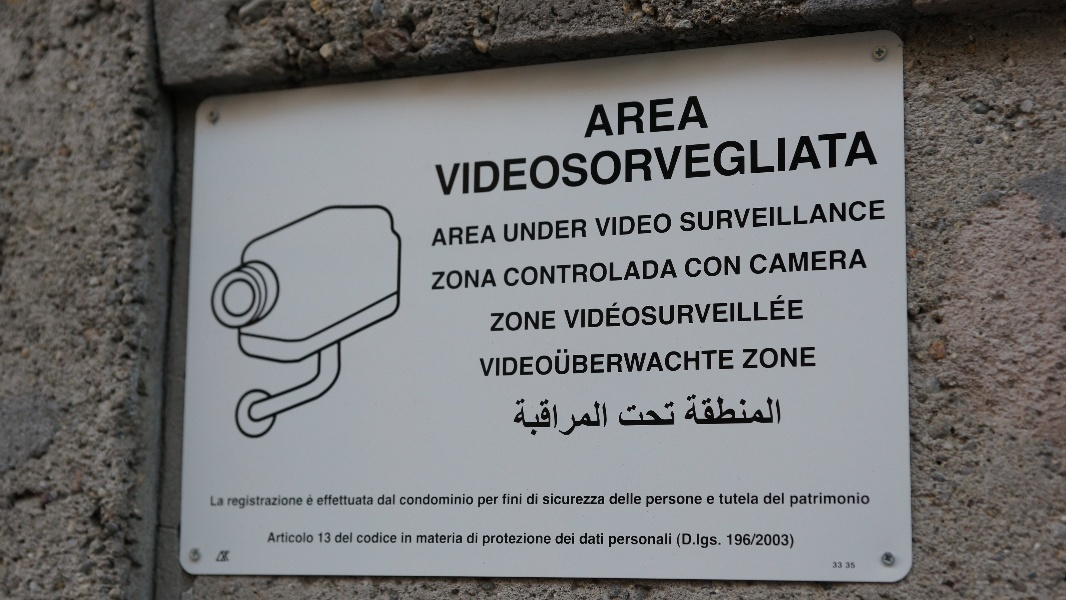text: (433, 125, 448, 198), (449, 125, 464, 198), (465, 125, 480, 198), (481, 125, 496, 198), (497, 125, 512, 198), (513, 125, 528, 198), (529, 125, 544, 198), (545, 125, 560, 198), (561, 125, 576, 198), (577, 125, 592, 198), (593, 125, 608, 198), (609, 125, 624, 198), (625, 125, 640, 198), (641, 125, 656, 198), (657, 125, 672, 198), (673, 125, 688, 198), (689, 125, 704, 198), (705, 125, 720, 198), (721, 125, 736, 198), (737, 125, 752, 198), (753, 125, 768, 198), (769, 125, 784, 198), (785, 125, 800, 198), (801, 125, 816, 198), (817, 125, 832, 198), (833, 125, 848, 198), (849, 125, 864, 198), (865, 125, 880, 198), (593, 93, 608, 142), (609, 93, 624, 142), (625, 93, 640, 142), (641, 93, 656, 142), (657, 93, 672, 142), (673, 93, 688, 142), (689, 93, 704, 142), (689, 195, 704, 237), (705, 195, 720, 237), (721, 195, 736, 237), (737, 195, 752, 237), (753, 195, 768, 237), (769, 195, 784, 237), (785, 195, 800, 237), (801, 195, 816, 237), (817, 195, 832, 237), (833, 195, 848, 237), (849, 195, 864, 237), (865, 195, 880, 237), (513, 396, 528, 438), (529, 396, 544, 438), (545, 396, 560, 438), (561, 396, 576, 437), (577, 396, 592, 437), (593, 396, 608, 437), (561, 293, 576, 330), (577, 293, 592, 330), (593, 293, 608, 330), (609, 293, 624, 330), (625, 293, 640, 330), (641, 293, 656, 330), (657, 293, 672, 330), (673, 293, 688, 330), (689, 293, 704, 330), (705, 293, 720, 330), (721, 293, 736, 330), (737, 293, 752, 330), (753, 293, 768, 330), (769, 293, 784, 330), (785, 293, 800, 330), (481, 343, 496, 380), (497, 343, 512, 380), (513, 343, 528, 380), (529, 343, 544, 380), (545, 343, 560, 380), (561, 343, 576, 380), (577, 343, 592, 380), (593, 343, 608, 380), (609, 343, 624, 380), (625, 343, 640, 380), (641, 343, 656, 380), (657, 343, 672, 380), (673, 343, 688, 380), (689, 343, 704, 380), (705, 343, 720, 380), (721, 343, 736, 380), (689, 392, 704, 429), (705, 392, 720, 429), (721, 392, 736, 429), (737, 392, 752, 429), (753, 392, 768, 429), (769, 392, 784, 429), (513, 256, 528, 291), (529, 256, 544, 291), (545, 256, 560, 291), (561, 256, 576, 291), (577, 256, 592, 291), (593, 256, 608, 291), (609, 256, 624, 291), (625, 256, 640, 291), (641, 256, 656, 291), (657, 256, 672, 291), (881, 195, 892, 237), (705, 93, 714, 142), (513, 217, 528, 246), (529, 217, 544, 246), (545, 217, 560, 246), (561, 217, 576, 246), (593, 211, 608, 240), (609, 211, 624, 240), (625, 211, 640, 240), (641, 211, 656, 240), (657, 211, 672, 240), (625, 398, 640, 427), (641, 398, 656, 427), (657, 398, 672, 427), (433, 266, 448, 293), (449, 266, 464, 293), (465, 266, 480, 293), (481, 266, 496, 293), (753, 248, 768, 275), (769, 248, 784, 275), (785, 248, 800, 275), (801, 248, 816, 275), (817, 248, 832, 275), (833, 248, 848, 275), (849, 248, 864, 275), (449, 223, 464, 249), (465, 223, 480, 249), (481, 223, 496, 249), (501, 256, 512, 291), (679, 195, 688, 237), (499, 217, 512, 246), (577, 217, 590, 246), (753, 345, 768, 370), (769, 345, 784, 370), (785, 345, 800, 370), (801, 345, 816, 370), (427, 125, 432, 198), (434, 223, 448, 249), (689, 255, 704, 279), (705, 255, 720, 279), (721, 255, 736, 279), (673, 256, 683, 291), (497, 309, 512, 332), (513, 309, 528, 332), (529, 309, 544, 332), (801, 492, 816, 512), (817, 492, 832, 512), (833, 492, 848, 512), (849, 492, 864, 512), (689, 532, 704, 551), (705, 532, 720, 551), (721, 532, 736, 551), (737, 532, 752, 551), (753, 532, 768, 551), (769, 532, 784, 551), (545, 309, 557, 332), (241, 494, 256, 512), (257, 494, 272, 512), (273, 494, 288, 512), (289, 494, 304, 512), (657, 533, 673, 549), (657, 494, 672, 511), (673, 494, 688, 511), (689, 494, 704, 511), (226, 494, 240, 512), (742, 345, 752, 370), (609, 533, 624, 549), (625, 533, 640, 549), (641, 533, 656, 549), (676, 532, 688, 551), (481, 495, 496, 510), (545, 492, 560, 507), (561, 492, 576, 507), (577, 492, 592, 507), (609, 493, 624, 508), (625, 493, 640, 508), (721, 493, 736, 508), (737, 493, 752, 508), (769, 491, 784, 506), (474, 343, 480, 380), (789, 492, 800, 512), (881, 125, 884, 198), (401, 494, 416, 508), (417, 494, 432, 508), (433, 494, 448, 508), (449, 494, 464, 508), (593, 492, 607, 507), (705, 494, 720, 508), (497, 533, 512, 547), (513, 533, 528, 547), (529, 533, 544, 547), (785, 532, 796, 551), (385, 492, 398, 508), (644, 494, 656, 511), (617, 398, 624, 427), (306, 494, 320, 508), (321, 494, 336, 507), (337, 494, 352, 507), (353, 494, 368, 507), (273, 531, 288, 544), (289, 531, 304, 544), (417, 532, 432, 545), (433, 532, 448, 545), (513, 492, 525, 508), (210, 495, 224, 508), (449, 532, 463, 545), (483, 533, 496, 547), (561, 532, 575, 545), (337, 532, 352, 544), (401, 532, 416, 544), (673, 398, 679, 427), (467, 532, 480, 545), (580, 532, 592, 546), (593, 532, 605, 546), (369, 533, 384, 544), (502, 492, 512, 508), (801, 293, 805, 330), (684, 392, 688, 429), (385, 533, 398, 544), (465, 494, 475, 508), (865, 492, 872, 512), (490, 309, 496, 332), (321, 532, 332, 544), (356, 533, 368, 544), (497, 223, 502, 249), (305, 531, 315, 544), (376, 492, 384, 508), (737, 255, 742, 279), (529, 494, 539, 506), (497, 266, 501, 293), (865, 248, 869, 275), (753, 493, 760, 508), (216, 550, 224, 563), (545, 533, 552, 547), (684, 255, 688, 279), (369, 494, 376, 507), (762, 491, 768, 506), (510, 396, 512, 438), (609, 396, 611, 437), (429, 266, 432, 293), (749, 248, 752, 275), (833, 562, 843, 569), (555, 532, 560, 545), (225, 550, 230, 563), (849, 561, 856, 570), (590, 211, 592, 240), (673, 211, 675, 240), (477, 495, 480, 510), (497, 495, 500, 510), (641, 493, 644, 508), (559, 396, 560, 437), (317, 494, 320, 507), (785, 392, 786, 429), (542, 492, 544, 507), (718, 493, 720, 508), (785, 491, 787, 506), (270, 531, 272, 544), (817, 345, 818, 370), (526, 494, 528, 506), (318, 532, 320, 544), (846, 561, 848, 570), (399, 494, 400, 508), (335, 532, 336, 544), (353, 532, 354, 544)
